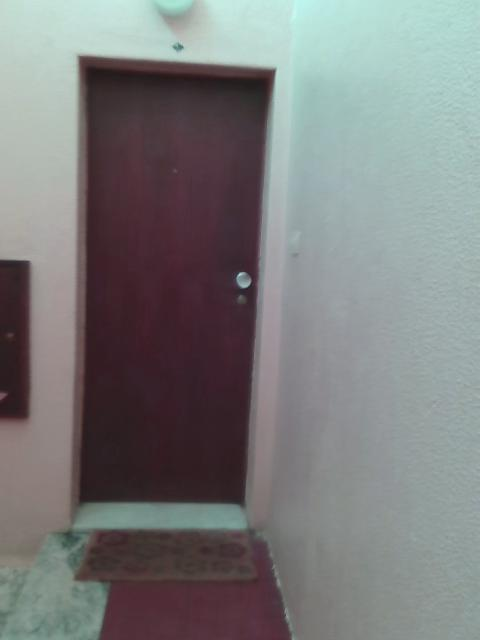closed_door: (72, 54, 274, 521)
